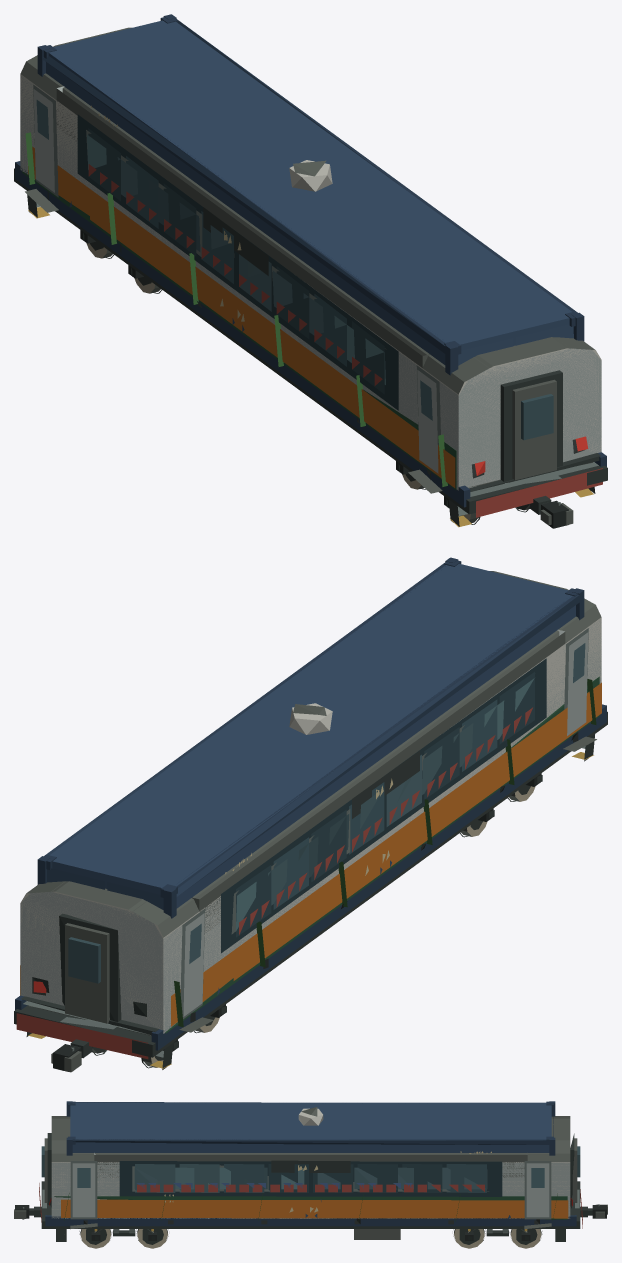
The model's file is riverside-carriage-kit-low.glb.
3 views of the same model, one above another, from view 1: azimuth 30°, elevation 25°; view 2: azimuth 150°, elevation 25°; view 3: azimuth 270°, elevation 25° (orthographic). The views are drawn at different scales.
Parts seen in each view (by area): view 1: GEO-carriage-container-body, GEO-carriage-executive-body, GEO-carriage-economy-body, GEO-executive-windows, GEO-carriage-ballast-body, GEO-executive-underframe, GEO-economy-windows, GEO-carriage-harvest-body, GEO-carriage-tank-body, GEO-executive-coupler-1; view 2: GEO-carriage-container-body, GEO-carriage-executive-body, GEO-carriage-economy-body, GEO-executive-windows, GEO-carriage-ballast-body, GEO-executive-underframe, GEO-economy-windows, GEO-carriage-harvest-body, GEO-carriage-tank-body, GEO-executive-coupler--1; view 3: GEO-carriage-container-body, GEO-carriage-economy-body, GEO-carriage-executive-body, GEO-executive-windows, GEO-carriage-ballast-body, GEO-economy-windows, GEO-executive-underframe, GEO-carriage-harvest-body, GEO-PIVOT-executive-wheel-1-0.79-1, GEO-PIVOT-executive-wheel--1--0.79-1, GEO-PIVOT-executive-wheel--1-0.79-1, GEO-PIVOT-executive-wheel-1--0.79-1 (+5 smaller).
Boxes of the visible parts, <box> form: GEO-carriage-container-body: <box>15,14,606,507</box>; GEO-carriage-executive-body: <box>20,55,601,493</box>; GEO-carriage-economy-body: <box>20,27,601,488</box>; GEO-executive-windows: <box>88,128,384,394</box>; GEO-carriage-ballast-body: <box>56,86,429,367</box>; GEO-executive-underframe: <box>14,168,607,527</box>; GEO-economy-windows: <box>36,100,432,420</box>; GEO-carriage-harvest-body: <box>22,132,456,489</box>; GEO-carriage-tank-body: <box>289,160,592,487</box>; GEO-executive-coupler-1: <box>529,496,573,528</box>; GEO-carriage-container-body: <box>15,557,606,1050</box>; GEO-carriage-executive-body: <box>20,598,601,1033</box>; GEO-carriage-economy-body: <box>20,571,601,1033</box>; GEO-executive-windows: <box>236,672,534,937</box>; GEO-carriage-ballast-body: <box>192,629,565,932</box>; GEO-executive-underframe: <box>14,711,607,1069</box>; GEO-economy-windows: <box>189,643,585,963</box>; GEO-carriage-harvest-body: <box>165,676,599,1033</box>; GEO-carriage-tank-body: <box>29,703,332,1035</box>; GEO-executive-coupler--1: <box>51,1039,92,1072</box>; GEO-carriage-container-body: <box>45,1101,576,1226</box>; GEO-carriage-economy-body: <box>47,1116,579,1218</box>; GEO-carriage-executive-body: <box>41,1116,580,1229</box>; GEO-executive-windows: <box>135,1164,486,1192</box>; GEO-carriage-ballast-body: <box>94,1153,527,1177</box>; GEO-economy-windows: <box>77,1167,544,1189</box>; GEO-executive-underframe: <box>39,1181,582,1241</box>; GEO-carriage-harvest-body: <box>54,1193,567,1221</box>; GEO-PIVOT-executive-wheel-1-0.79-1: <box>79,1229,112,1248</box>; GEO-PIVOT-executive-wheel--1--0.79-1: <box>509,1229,542,1248</box>; GEO-PIVOT-executive-wheel--1-0.79-1: <box>453,1229,485,1248</box>; GEO-PIVOT-executive-wheel-1--0.79-1: <box>136,1229,168,1248</box>.
Size of the model in its own units: 3.17 by 3.99 by 16.54.
